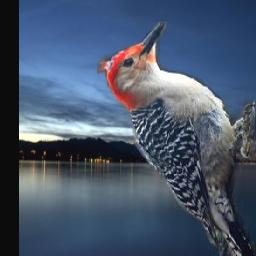Woodpecker: (97, 23, 255, 256)
